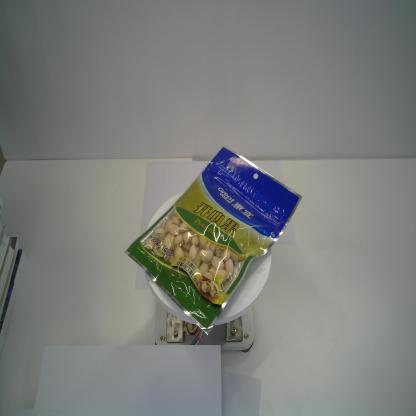Dried Fruit: (121, 142, 302, 334)
